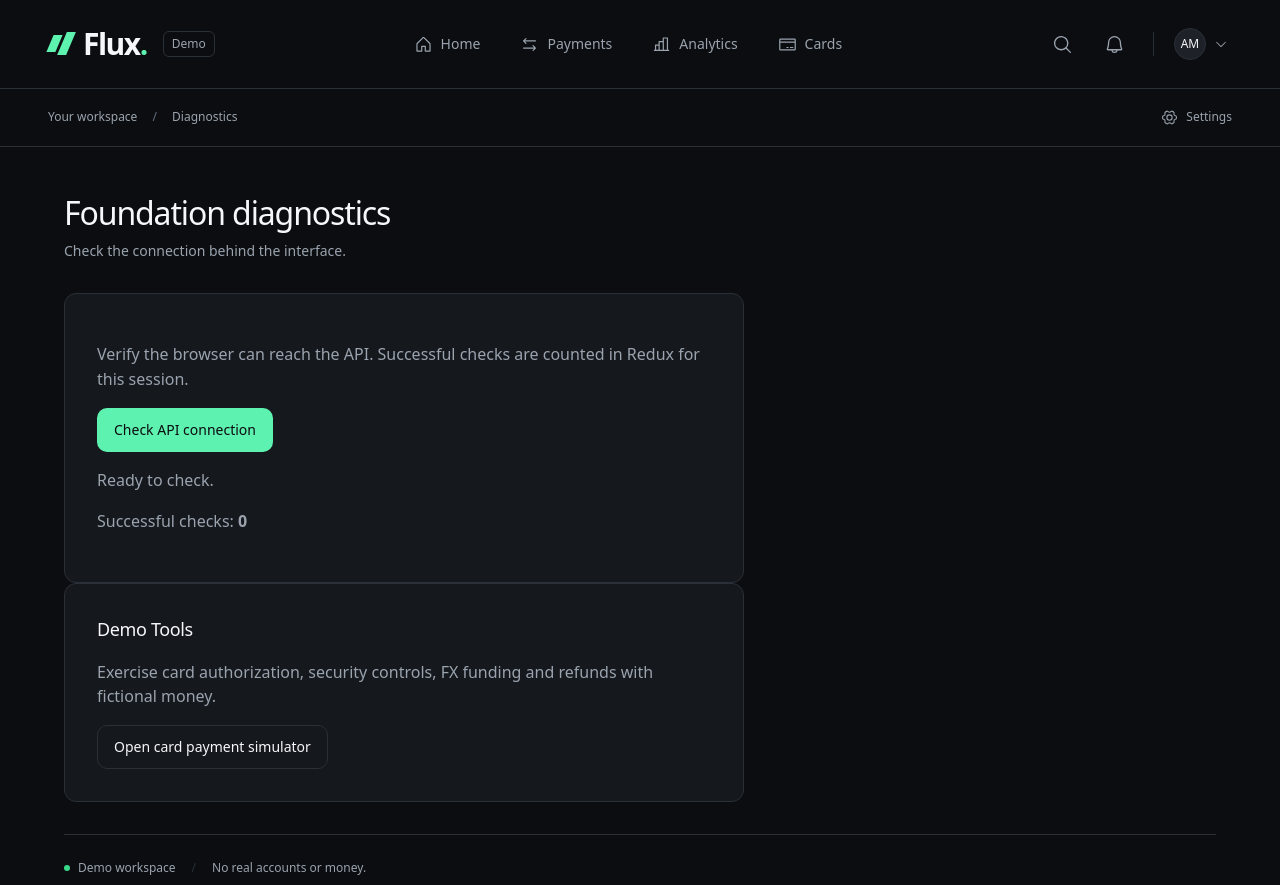
Scenario: navigates through the shell and preserves Redux diagnostics
expect the heading "Foundation diagnostics" is shown: met, box [64,195,390,232]
Click the button "Check API connection" at (185, 430), box [97,408,273,452]
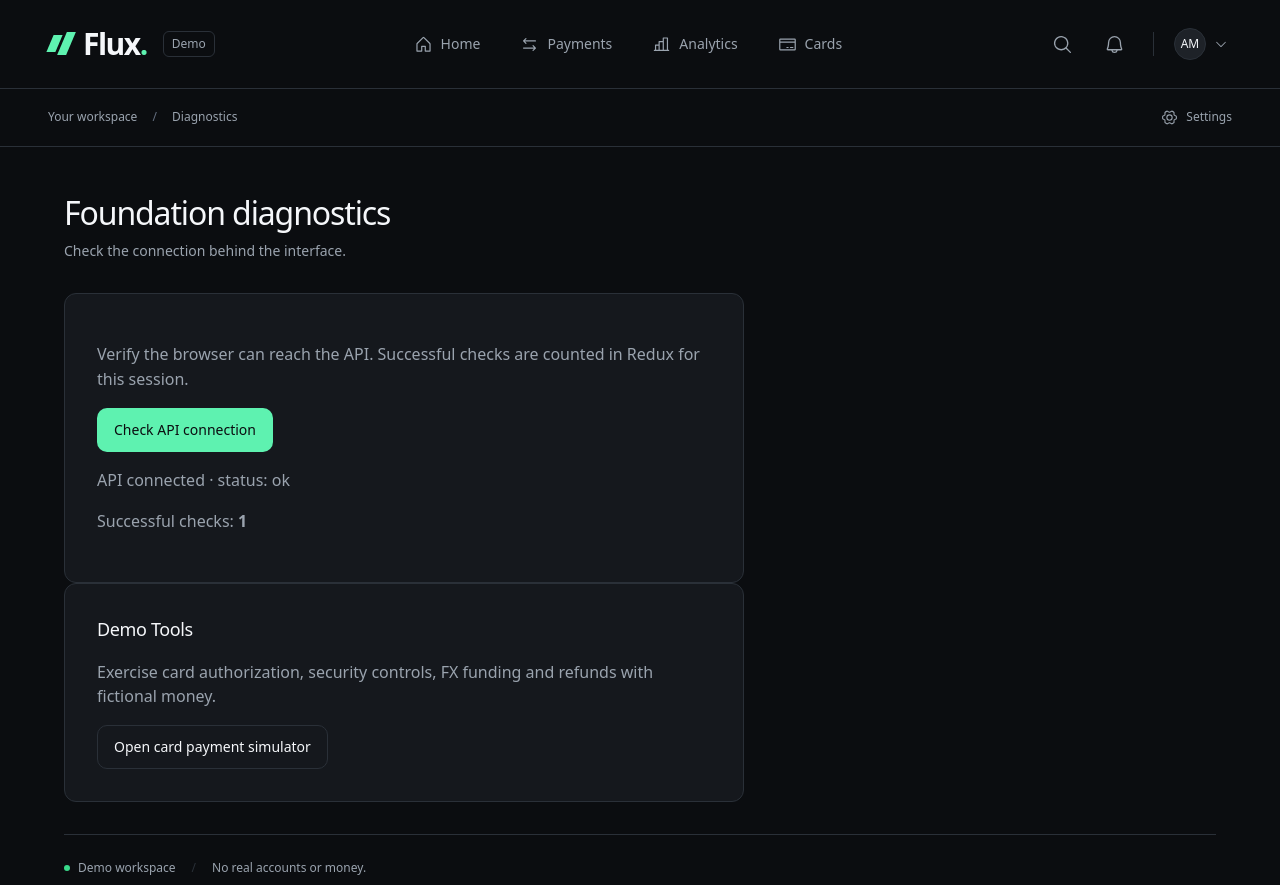
expect the text "API connected · status: ok" is shown: met, box [97,469,290,491]
Click the link "Home" at (447, 44), box [414,34,480,54]
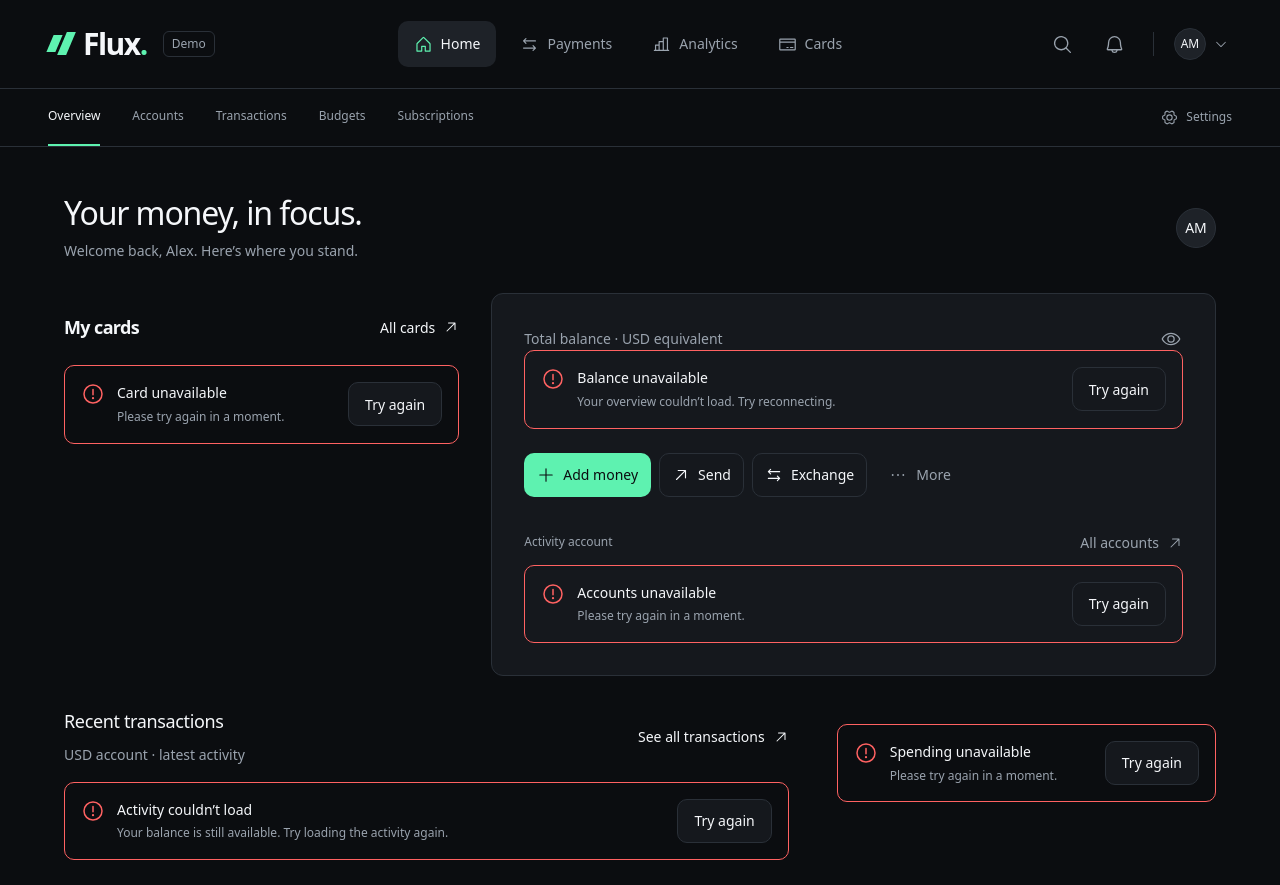
expect the heading "Your money, in focus." is shown: met, box [64,195,362,232]
Click the button named "Search Flux" at (1063, 44), box [1041,22,1085,66]
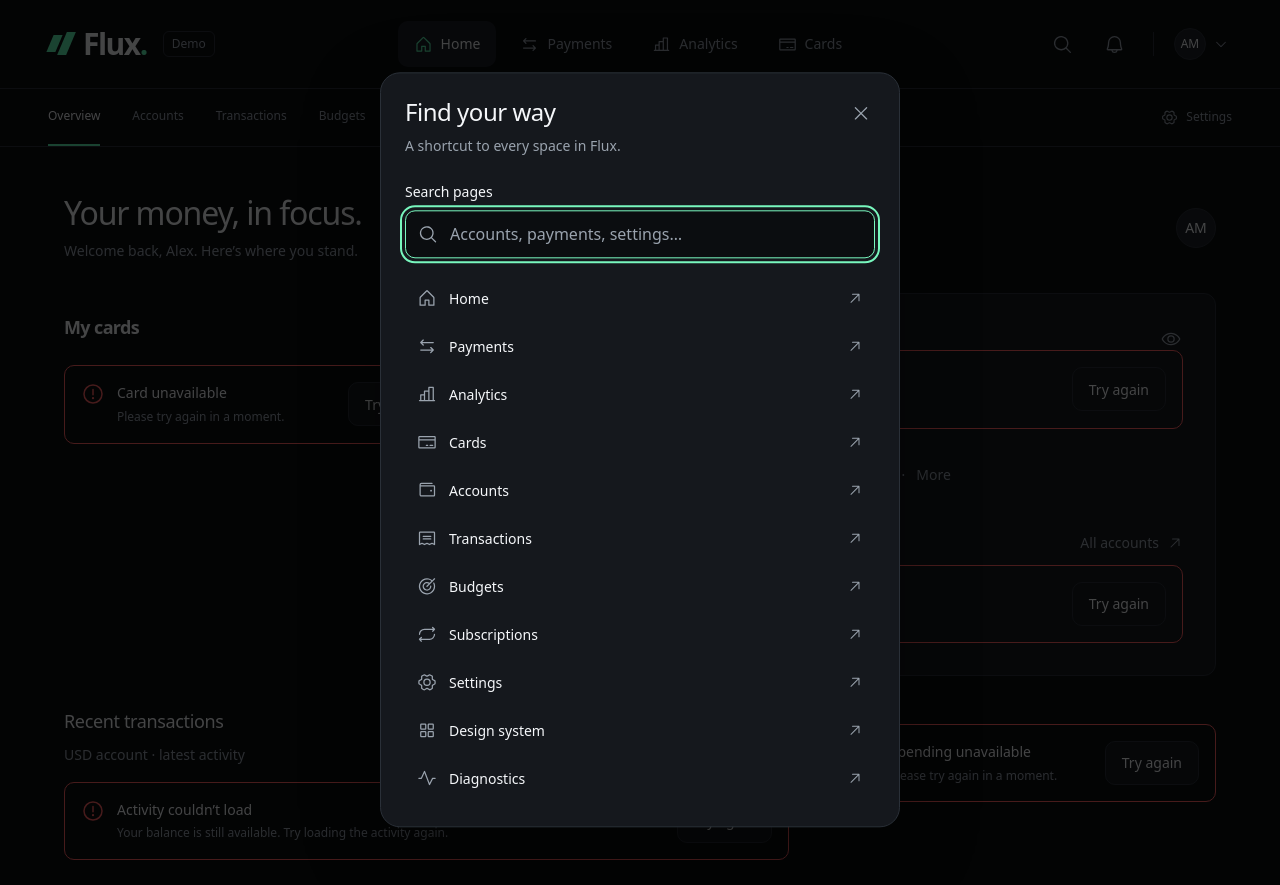
Type keys "Diagnostics"
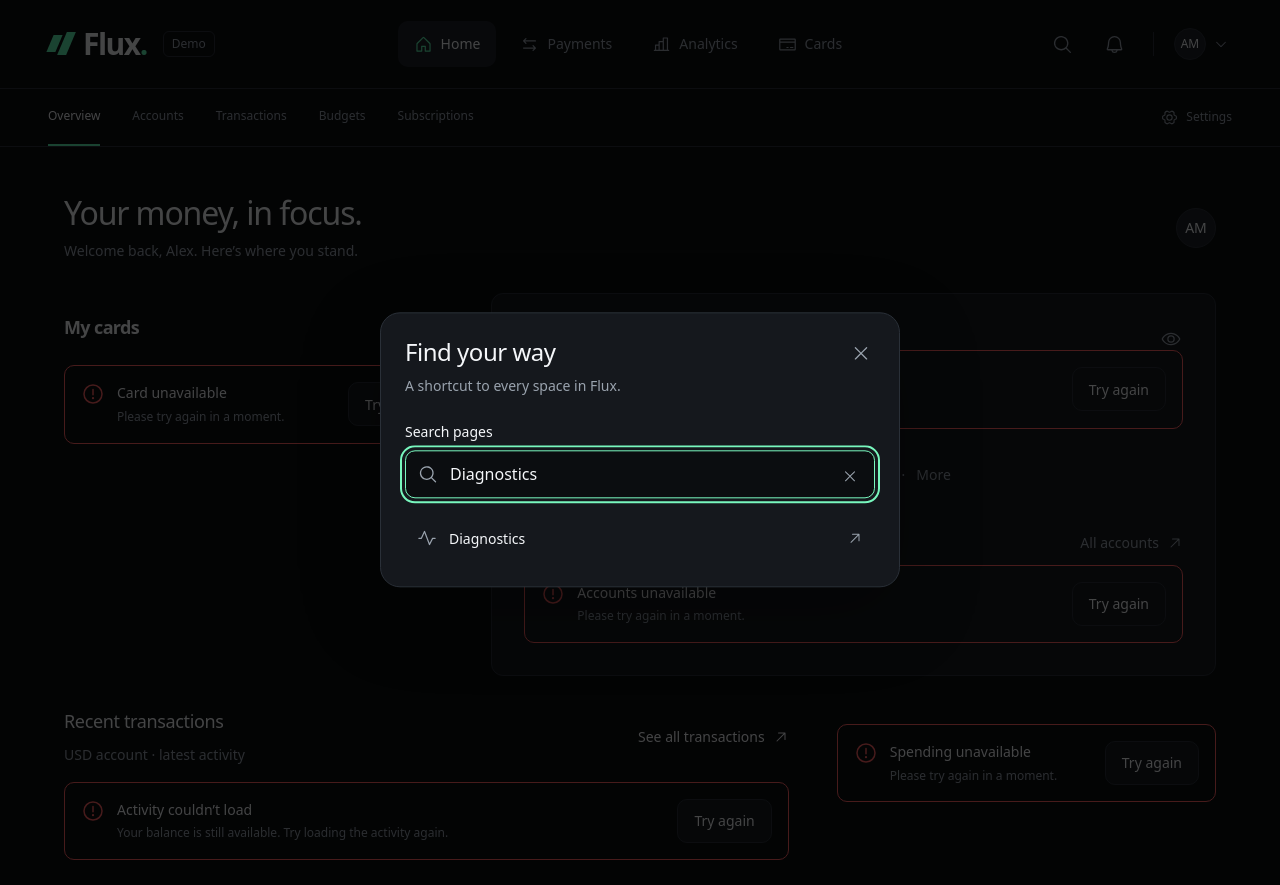
Click the link "Diagnostics" at (487, 538), box [417,529,863,549]
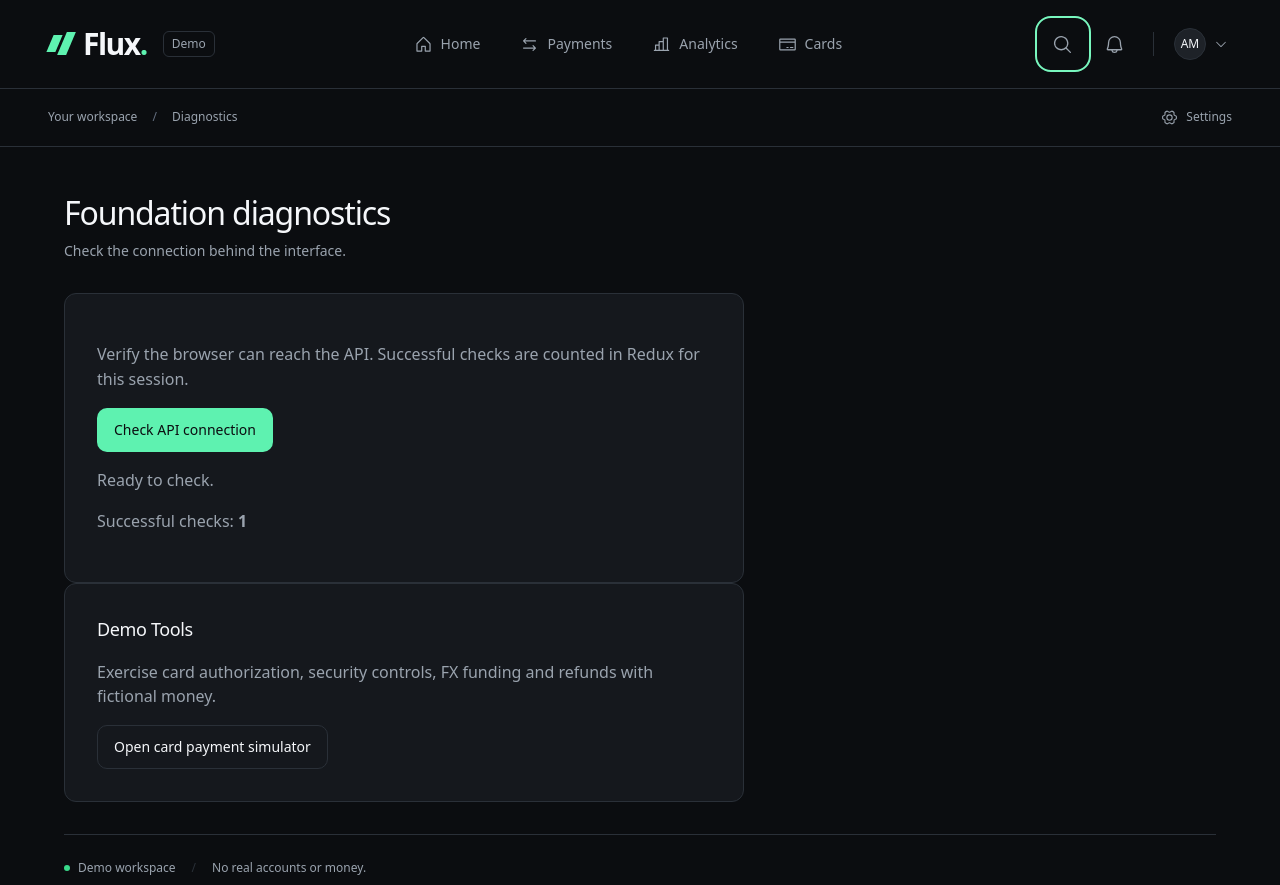
expect the text "Successful checks:" reads "Successful checks: 1": met, box [97,510,247,532]
